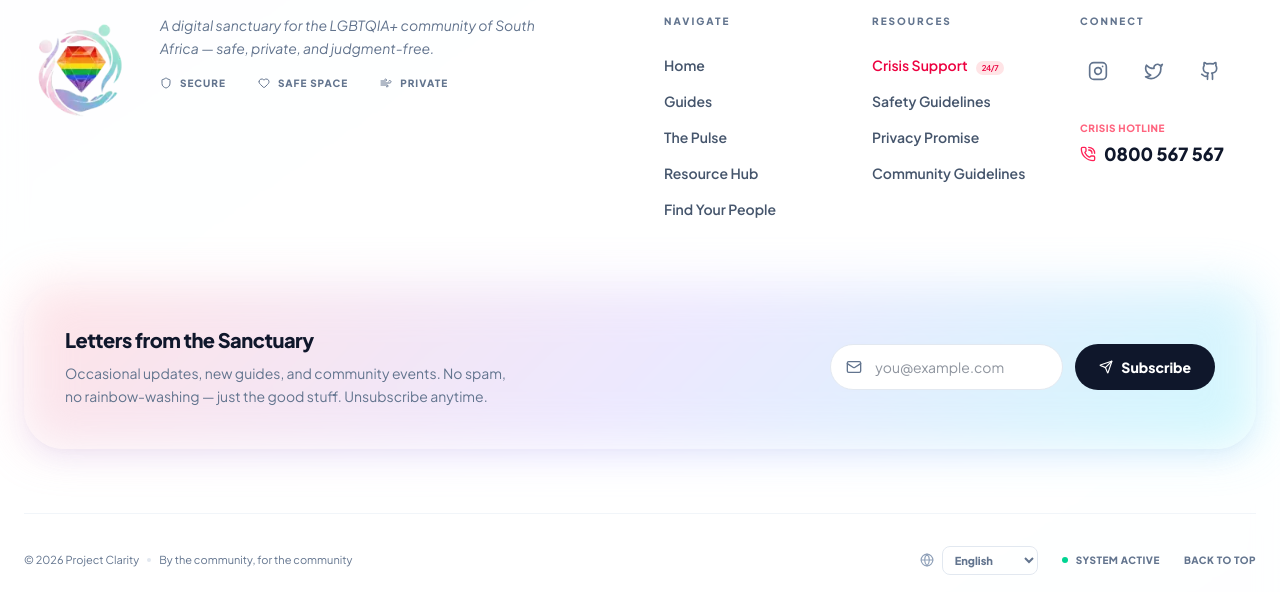
Test case: Footer › changes the tagline when a language is selected
Select "Afrikaans" in the dropdown named "Language" at (990, 560), box [942,546,1038,574]
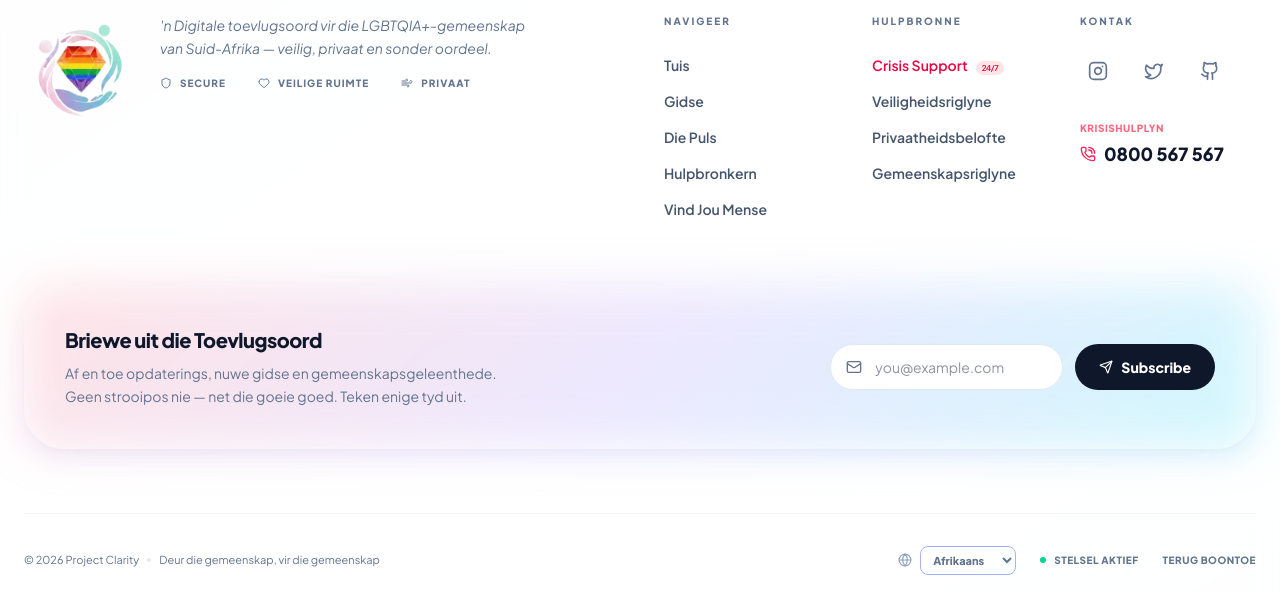
Result: the text "Digitale toevlugsoord" is shown at [160,16,525,57]
